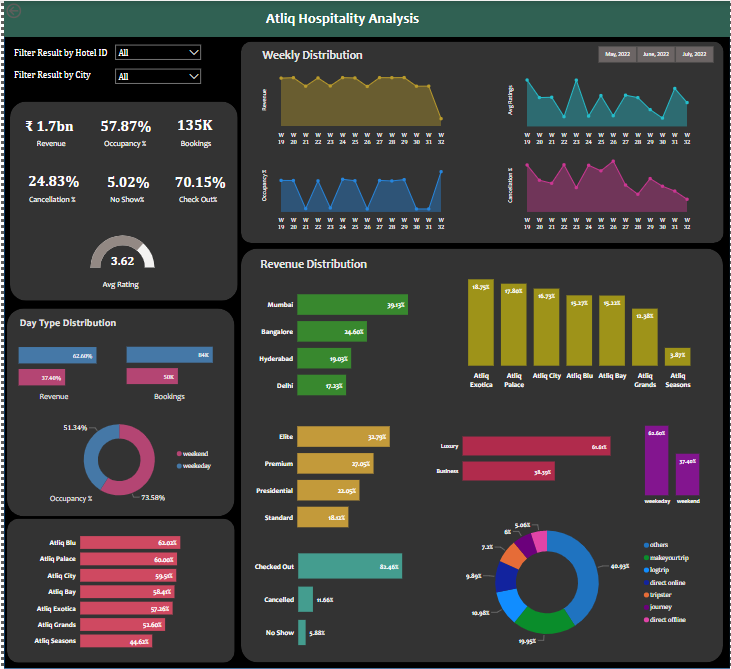

Layout of this report page (visuals, bound fields, positions):
{"tool":"powerbi","page":{"name":"Duplicate of Page 2","canvas":[1480,1360],"ordinal":2},"visuals":[{"type":"shape","box":[0,0,1480,1360],"z":0},{"type":"textbox","box":[383.5,29.1,184.4,43.7],"z":1000},{"type":"shape","box":[12,206,464,406],"z":2000},{"type":"textbox","box":[196,562,104,38],"z":3000},{"type":"gauge","fields":{"Y":["Parameters.Avg Ratings"]},"box":[170,440,140,140],"z":4000},{"type":"donutChart","fields":{"Category":["dim_date.day_type"],"Y":["Parameters.Occupancy%"]},"box":[542.6,185.2,270.4,164.8],"z":5000},{"type":"shape","box":[0,0,1479.6,73.5],"z":6000},{"type":"textbox","box":[60,274,106,44],"z":7000},{"type":"card","fields":{"Values":["Parameters.Total Revenue"]},"box":[16,230,154,48],"z":8000},{"type":"card","fields":{"Values":["Parameters.Occupancy%"]},"box":[176.4,232.7,141.8,43.6],"z":9000},{"type":"textbox","box":[200,276.4,136.4,43.6],"z":10000},{"type":"shape","box":[484,83,983.6,410.9],"z":11000},{"type":"slicer","fields":{"Values":["dim_date.mmm yy"]},"box":[1185.2,85.2,283.3,46.3],"z":12000},{"type":"card","fields":{"Values":["Parameters.Cancelled%"]},"box":[29.1,345.5,141.8,43.6],"z":13000},{"type":"actionButton","box":[0,0,100,40],"z":14000},{"type":"textbox","box":[45.5,389.1,145.5,41.8],"z":15000},{"type":"card","fields":{"Values":["Parameters.Total Bookings"]},"box":[325.5,229.1,129.1,45.5],"z":16000},{"type":"card","fields":{"Values":["Parameters.No Show%"]},"box":[189.1,345.5,127.3,47.3],"z":17000},{"type":"textbox","box":[354.5,274.5,100,34.5],"z":18000},{"type":"donutChart","fields":{"Category":["dim_date.day_type"],"Y":["Parameters.Occupancy%"]},"box":[36.4,669.1,320,230.9],"z":19000},{"type":"shape","box":[483.6,503.6,981.8,843.6],"z":20000},{"type":"slicer","fields":{"Values":["dim_hotels.property_id"]},"box":[218,80,194,47],"z":21000},{"type":"slicer","fields":{"Values":["dim_hotels.city"]},"box":[218,128,194,47],"z":22000},{"type":"barChart","fields":{"Y":["Parameters.Total Revenue"],"Category":["dim_rooms.room_class"]},"box":[507.1,830.4,325,269.6],"z":23000},{"type":"columnChart","fields":{"Category":["dim_hotels.property_name"],"Y":["Divide(Parameters.Total Revenue, ScopedEval(Parameters.Total Revenue, []))"]},"box":[905.4,541.1,526.8,257.1],"z":24000},{"type":"textbox","box":[16,90,214,38],"z":25000},{"type":"textbox","box":[15.7,134.3,195.7,41.4],"z":26000},{"type":"donutChart","fields":{"Category":["fact_bookings.booking_platform"],"Y":["Parameters.Total Revenue"]},"box":[904.6,1033,501.2,302.6],"z":27000},{"type":"shape","box":[503.6,510.9,252.7,50.9],"z":28000},{"type":"barChart","fields":{"Y":["Parameters.Total Revenue"],"Category":["dim_hotels.category"]},"box":[874.1,829.6,407.4,201.9],"z":29000},{"type":"barChart","fields":{"Y":["Parameters.Total Revenue"],"Category":["dim_hotels.city"]},"box":[512.5,562.5,319.6,269.6],"z":30000},{"type":"barChart","fields":{"Y":["Parameters.Total Revenue"],"Category":["fact_bookings.booking_status"]},"box":[503,1085.7,357.1,262.5],"z":31000},{"type":"columnChart","fields":{"Category":["dim_date.day_type"],"Y":["Divide(Parameters.Total Revenue, ScopedEval(Parameters.Total Revenue, []))"]},"box":[1242.6,833.3,237,201.9],"z":32000},{"type":"textbox","box":[210.9,389.1,125.5,47.3],"z":33000},{"type":"areaChart","fields":{"Category":["dim_date.week no"],"Y":["Parameters.Total Revenue"]},"box":[518.2,134.5,387.3,167.3],"z":34000},{"type":"areaChart","fields":{"Category":["dim_date.week no"],"Y":["Parameters.Occupancy%"]},"box":[518.2,309.1,387.3,167.3],"z":35000},{"type":"areaChart","fields":{"Category":["dim_date.week no"],"Y":["Parameters.Avg Ratings"]},"box":[1020,134.5,387.3,167.3],"z":36000},{"type":"areaChart","fields":{"Category":["dim_date.week no"],"Y":["Parameters.Cancelled%"]},"box":[1021.8,309.1,387.3,167.3],"z":37000},{"type":"card","fields":{"Values":["Parameters.Checked Out%"]},"box":[336.4,345.5,127.3,47.3],"z":38000},{"type":"textbox","box":[352.7,389.1,118.2,47.3],"z":39000},{"type":"shape","box":[501.8,83.6,254.5,52.7],"z":40000},{"type":"shape","box":[7.3,625.5,463.6,423.6],"z":41000},{"type":"donutChart","fields":{"Category":["dim_date.day_type"],"Y":["Parameters.Occupancy%"]},"box":[114.5,818.2,320,230.9],"z":42000},{"type":"barChart","fields":{"Category":["dim_date.day_type"],"Y":["Parameters.Total Revenue"]},"box":[23.6,669.1,212.7,143.6],"z":43000},{"type":"barChart","fields":{"Category":["dim_date.day_type"],"Y":["Parameters.Total Bookings"]},"box":[243.6,670,218.2,140],"z":44000},{"type":"shape","box":[3.6,630.9,254.5,52.7],"z":45000},{"type":"shape","box":[54.5,787,92.7,34.5],"z":46000},{"type":"shape","box":[290.9,787.3,92.7,34.5],"z":47000},{"type":"shape","box":[81.8,996.4,107.3,34.5],"z":48000},{"type":"shape","box":[325.5,9.1,730.9,52.7],"z":49000},{"type":"shape","box":[7.1,1054.3,464.3,294.3],"z":51000},{"type":"barChart","fields":{"Category":["dim_hotels.property_name"],"Y":["Parameters.Occupancy%"]},"box":[55.6,1064.8,368.5,272.2],"z":51001}]}

Visuals, with their boxes in screenshot pixels (x1, y1, x2, y2), scaled from the page's 1480x1360 canvas onto the 731x669 screenshot:
shape: box=[0, 0, 730, 668]
textbox: box=[189, 14, 280, 36]
shape: box=[6, 101, 235, 301]
textbox: box=[97, 276, 148, 295]
gauge - Parameters.Avg Ratings: box=[84, 216, 153, 285]
donutChart - dim_date.day_type x Parameters.Occupancy%: box=[268, 91, 402, 172]
shape: box=[0, 0, 730, 36]
textbox: box=[30, 135, 82, 156]
card - Parameters.Total Revenue: box=[8, 113, 84, 137]
card - Parameters.Occupancy%: box=[87, 114, 157, 136]
textbox: box=[99, 136, 166, 157]
shape: box=[239, 41, 725, 243]
slicer - dim_date.mmm yy: box=[585, 42, 725, 65]
card - Parameters.Cancelled%: box=[14, 170, 84, 191]
actionButton: box=[0, 0, 49, 20]
textbox: box=[22, 191, 94, 212]
card - Parameters.Total Bookings: box=[161, 113, 225, 135]
card - Parameters.No Show%: box=[93, 170, 156, 193]
textbox: box=[175, 135, 224, 152]
donutChart - dim_date.day_type x Parameters.Occupancy%: box=[18, 329, 176, 443]
shape: box=[239, 248, 724, 663]
slicer - dim_hotels.property_id: box=[108, 39, 203, 62]
slicer - dim_hotels.city: box=[108, 63, 203, 86]
barChart - Parameters.Total Revenue x dim_rooms.room_class: box=[250, 408, 411, 541]
columnChart - dim_hotels.property_name x Divide(Parameters.Total Revenue, ScopedEval(Parameters.Total Revenue, [])): box=[447, 266, 707, 393]
textbox: box=[8, 44, 114, 63]
textbox: box=[8, 66, 104, 86]
donutChart - fact_bookings.booking_platform x Parameters.Total Revenue: box=[447, 508, 694, 657]
shape: box=[249, 251, 374, 276]
barChart - Parameters.Total Revenue x dim_hotels.category: box=[432, 408, 633, 507]
barChart - Parameters.Total Revenue x dim_hotels.city: box=[253, 277, 411, 409]
barChart - Parameters.Total Revenue x fact_bookings.booking_status: box=[248, 534, 425, 663]
columnChart - dim_date.day_type x Divide(Parameters.Total Revenue, ScopedEval(Parameters.Total Revenue, [])): box=[614, 410, 730, 509]
textbox: box=[104, 191, 166, 215]
areaChart - dim_date.week no x Parameters.Total Revenue: box=[256, 66, 447, 148]
areaChart - dim_date.week no x Parameters.Occupancy%: box=[256, 152, 447, 234]
areaChart - dim_date.week no x Parameters.Avg Ratings: box=[504, 66, 695, 148]
areaChart - dim_date.week no x Parameters.Cancelled%: box=[505, 152, 696, 234]
card - Parameters.Checked Out%: box=[166, 170, 229, 193]
textbox: box=[174, 191, 233, 215]
shape: box=[248, 41, 374, 67]
shape: box=[4, 308, 233, 516]
donutChart - dim_date.day_type x Parameters.Occupancy%: box=[57, 402, 215, 516]
barChart - dim_date.day_type x Parameters.Total Revenue: box=[12, 329, 117, 400]
barChart - dim_date.day_type x Parameters.Total Bookings: box=[120, 330, 228, 398]
shape: box=[2, 310, 127, 336]
shape: box=[27, 387, 73, 404]
shape: box=[144, 387, 189, 404]
shape: box=[40, 490, 93, 507]
shape: box=[161, 4, 522, 30]
shape: box=[4, 519, 233, 663]
barChart - dim_hotels.property_name x Parameters.Occupancy%: box=[27, 524, 209, 658]
